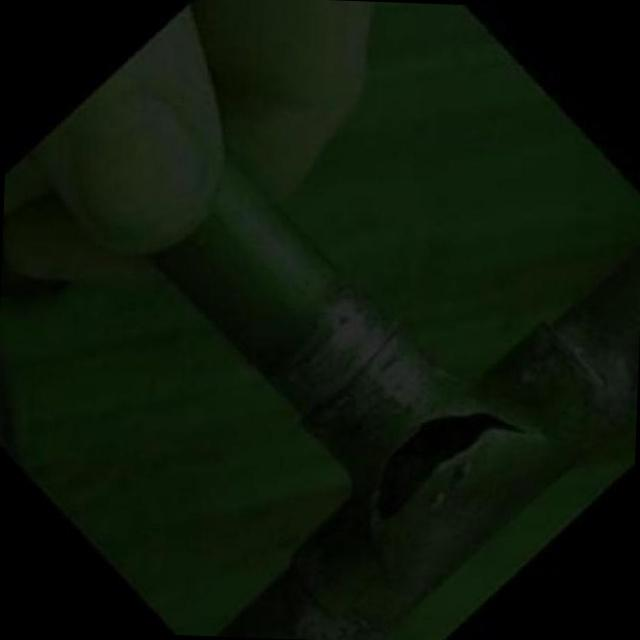Hole: (358, 384, 526, 560)
